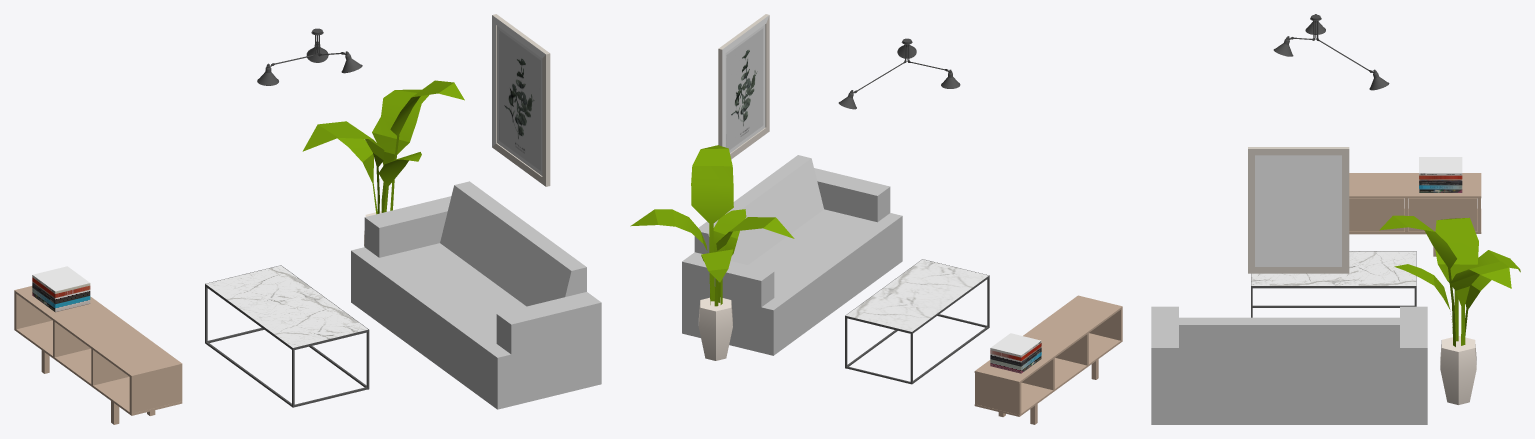
The picture shows the model from 3 angles, left to right: view 1: azimuth 30°, elevation 25°; view 2: azimuth 150°, elevation 25°; view 3: azimuth 270°, elevation 25°; orthographic projection. The views are drawn at different scales.
Parts seen in each view (by area): view 1: Mesh28; view 2: Mesh28; view 3: Mesh28.
Boxes of the visible parts, x1=… form: Mesh28: x1=14, y1=14, x2=601, y2=424; Mesh28: x1=630, y1=14, x2=1122, y2=424; Mesh28: x1=1151, y1=14, x2=1520, y2=424.
Size of the model in its own units: 3.35 by 2.54 by 2.67.
Materials: 15 (5 with a texture image).
